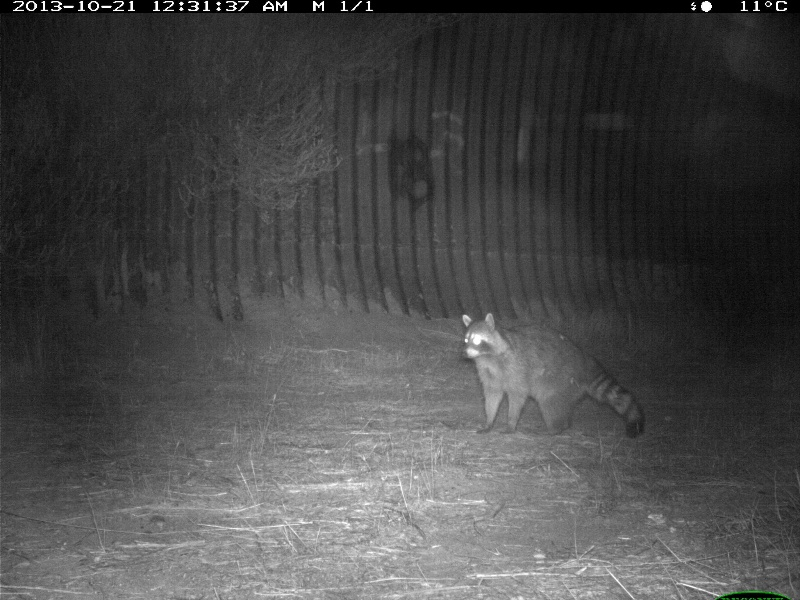raccoon: (459, 311, 648, 441)
